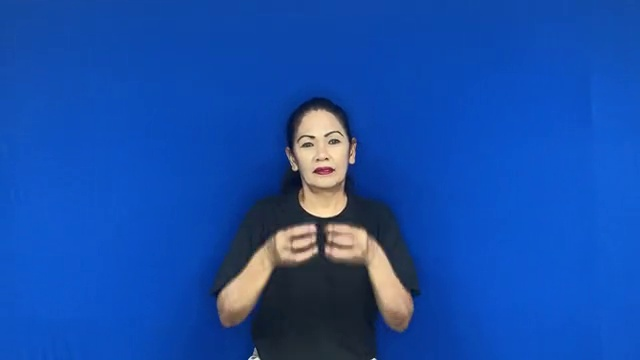egg: (258, 211, 375, 276)
